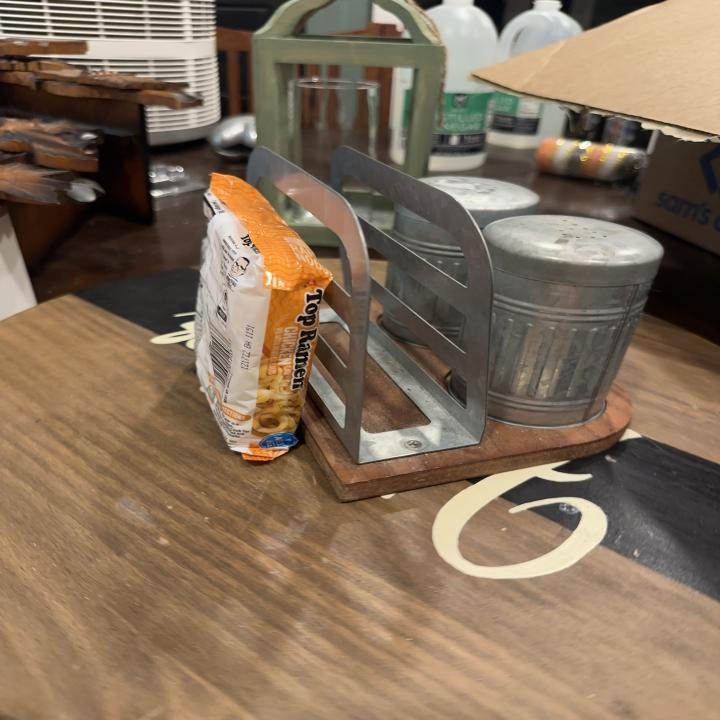Ramen: (192, 170, 334, 462)
